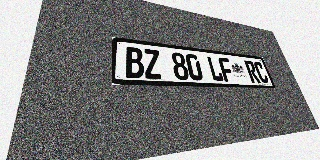0: (185, 53, 204, 81)
8: (170, 52, 190, 80)
B: (125, 46, 145, 78)
C: (253, 61, 270, 83)
F: (218, 57, 236, 82)
L: (206, 56, 224, 81)
R: (244, 60, 261, 83)
Z: (143, 48, 162, 79)
